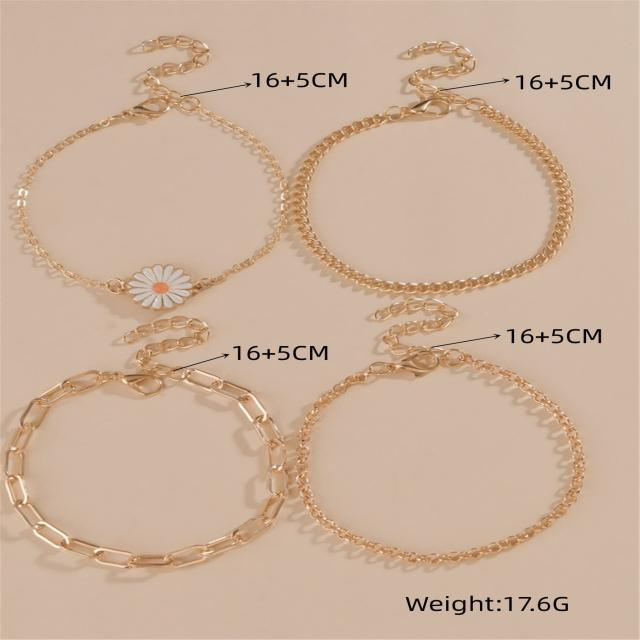bracelet: (287, 293, 640, 589), (274, 21, 604, 310), (6, 295, 332, 587), (15, 20, 307, 332)
